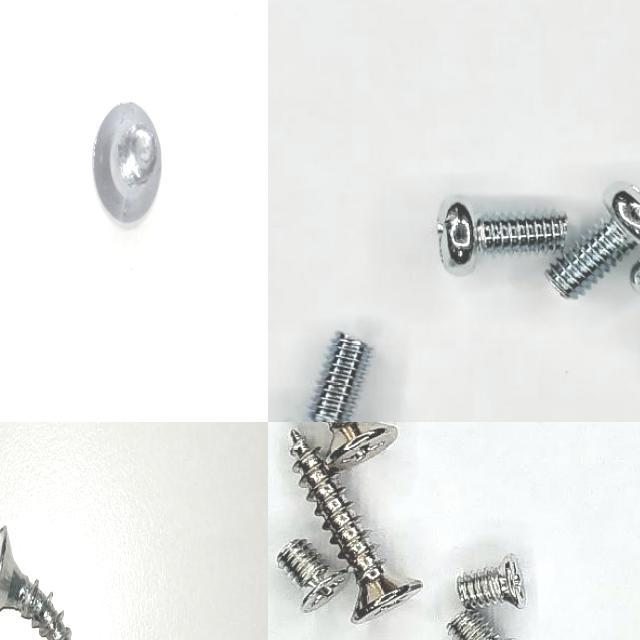Screw: (291, 431, 421, 624), (545, 185, 640, 298), (436, 197, 567, 275), (0, 525, 72, 640), (94, 101, 162, 222), (297, 332, 370, 422), (275, 539, 346, 613), (457, 555, 525, 610), (324, 422, 396, 470), (446, 611, 502, 640)
